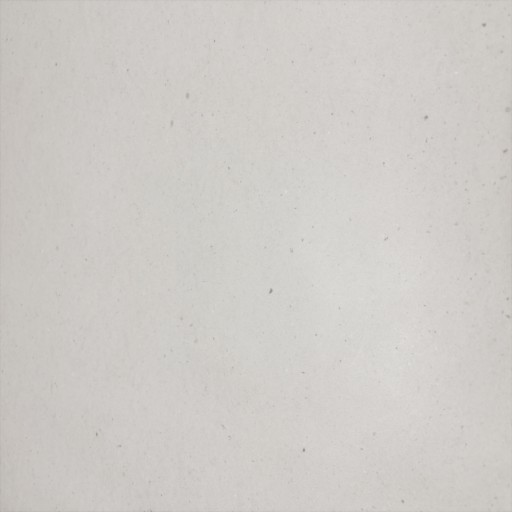lego: (226, 231, 288, 283)
